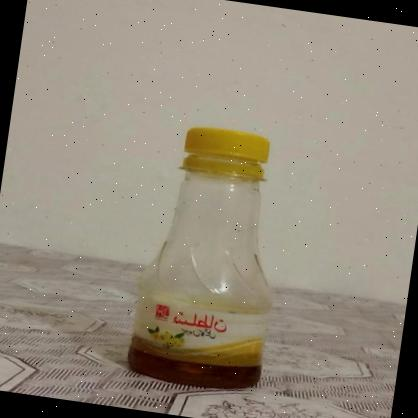bottle: (113, 107, 313, 398)
cap: (179, 123, 279, 190)
label: (134, 285, 277, 390)
